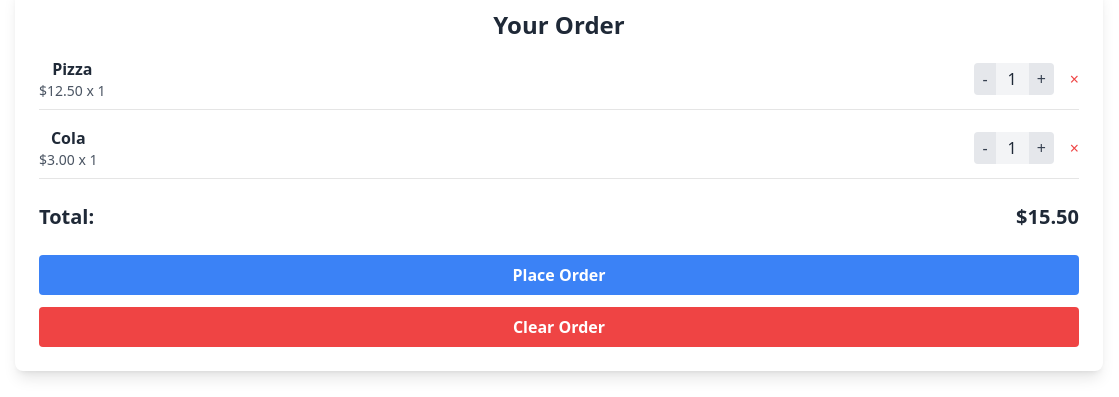
Test: OrderCart › removes an item with the × button
The width and height of the screenshot is (1119, 397).
Expected: the text "Pizza" is shown, [52,58,92,80]
# The × button sits in the Pizza row (first remove button).
Click the button "×" in the row of "Pizza" at (1074, 79), box [1070,67,1079,91]
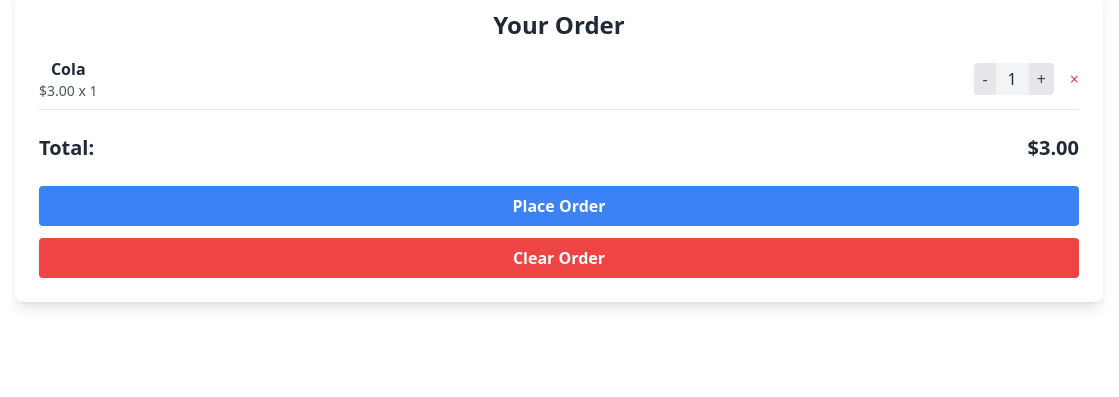
Expected: the text "Cola" is shown, [51,58,86,80]
Expected: the text "Pizza" is gone
